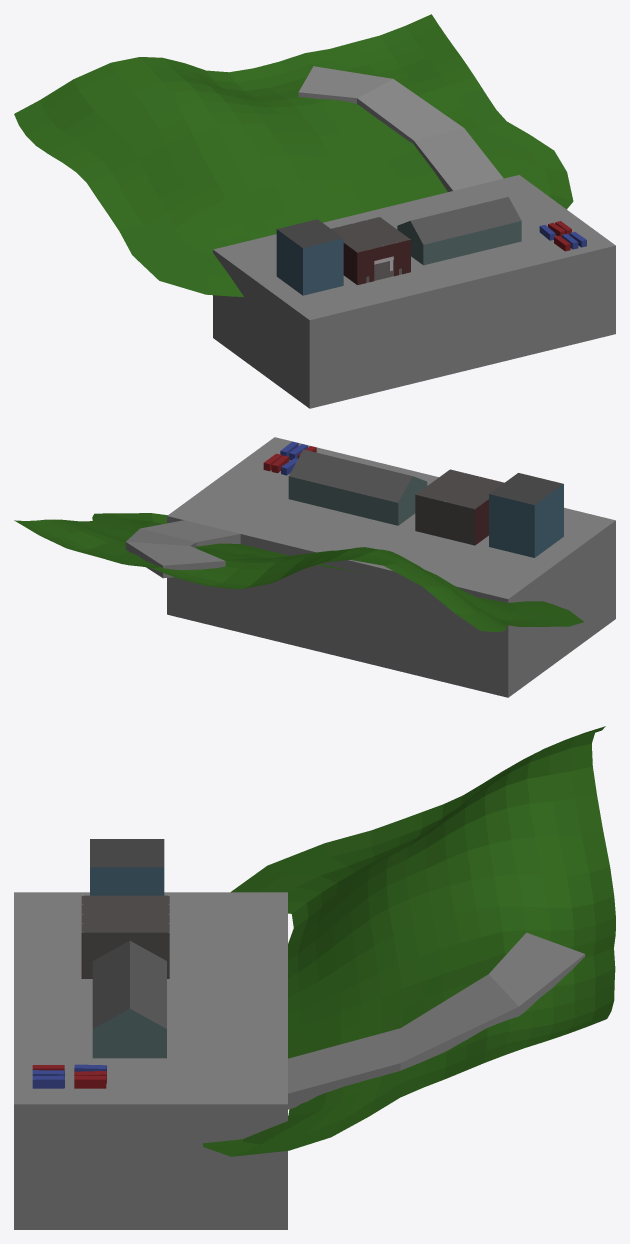
The model's file is warehousehill.gltf.
The picture shows the model from 3 angles, top to bottom: view 1: azimuth 30°, elevation 25°; view 2: azimuth 150°, elevation 25°; view 3: azimuth 270°, elevation 25°; orthographic projection. The views are drawn at different scales.
Parts seen in each view (by area): view 1: Plane.001, Cube, Cube.001, Cube.002, Warehouse Base, Cube.003; view 2: Cube, Plane.001, Cube.001, Cube.002, Warehouse Base, Cube.003; view 3: Cube, Plane.001, Cube.001, Warehouse Base, Cube.002, Cube.003.
Part boxes in pixels (x1=…): Plane.001: x1=14, y1=14, x2=573, y2=296; Cube: x1=213, y1=66, x2=615, y2=408; Cube.001: x1=397, y1=197, x2=521, y2=265; Cube.002: x1=276, y1=219, x2=343, y2=295; Warehouse Base: x1=331, y1=217, x2=410, y2=285; Cube.003: x1=539, y1=221, x2=586, y2=251; Cube: x1=125, y1=437, x2=615, y2=697; Plane.001: x1=14, y1=513, x2=583, y2=631; Cube.001: x1=288, y1=449, x2=427, y2=525; Cube.002: x1=489, y1=473, x2=563, y2=557; Warehouse Base: x1=415, y1=469, x2=504, y2=545; Cube.003: x1=263, y1=441, x2=316, y2=475; Cube: x1=14, y1=892, x2=585, y2=1229; Plane.001: x1=202, y1=726, x2=615, y2=1156; Cube.001: x1=92, y1=940, x2=166, y2=1058; Warehouse Base: x1=81, y1=895, x2=169, y2=978; Cube.002: x1=90, y1=839, x2=164, y2=895; Cube.003: x1=32, y1=1064, x2=106, y2=1088.
Size of what is drawn, in the model's own units: 45.48 by 19.1 by 37.53.
